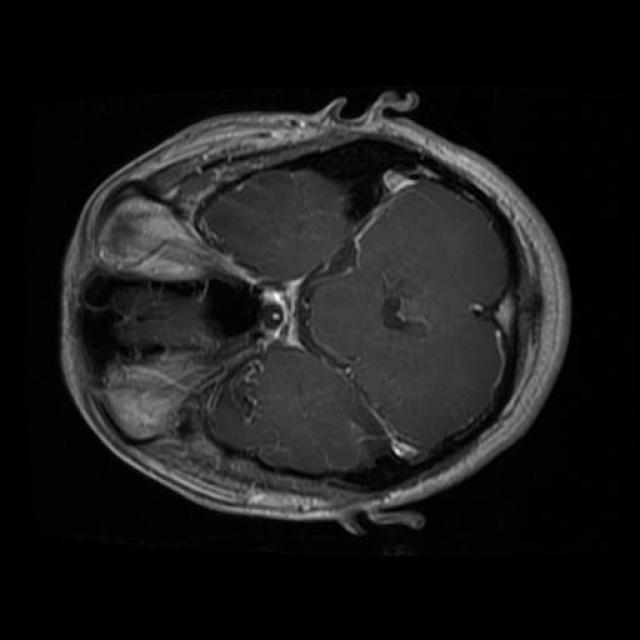Glioma: (291, 151, 393, 222)
